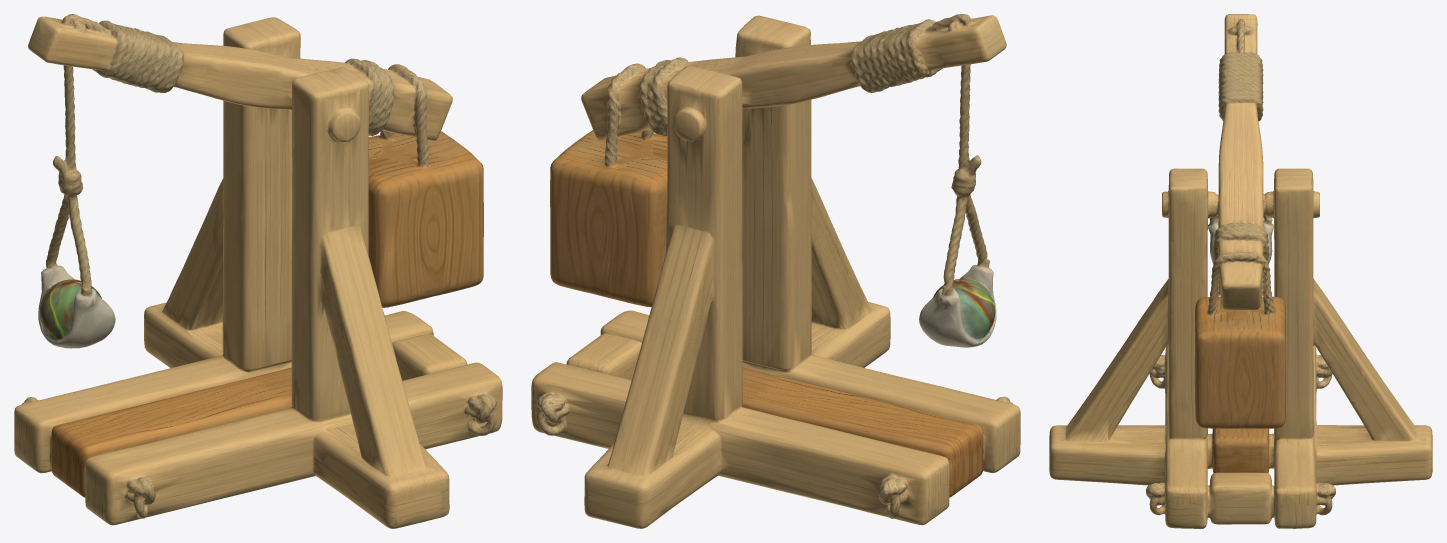
The picture shows the model from 3 angles, left to right: view 1: azimuth 30°, elevation 25°; view 2: azimuth 150°, elevation 25°; view 3: azimuth 270°, elevation 25°; orthographic projection. The views are drawn at different scales.
Parts seen in each view (by area): view 1: Mesh_0; view 2: Mesh_0; view 3: Mesh_0.
Boxes of the visible parts, x1,y1,x2,y2 form: Mesh_0: (14,14,502,528); Mesh_0: (531,14,1020,528); Mesh_0: (1049,14,1432,528).
Bounding box in the file's own units: 1.77 × 1.9 × 1.8.
1 material, 1 textured.
